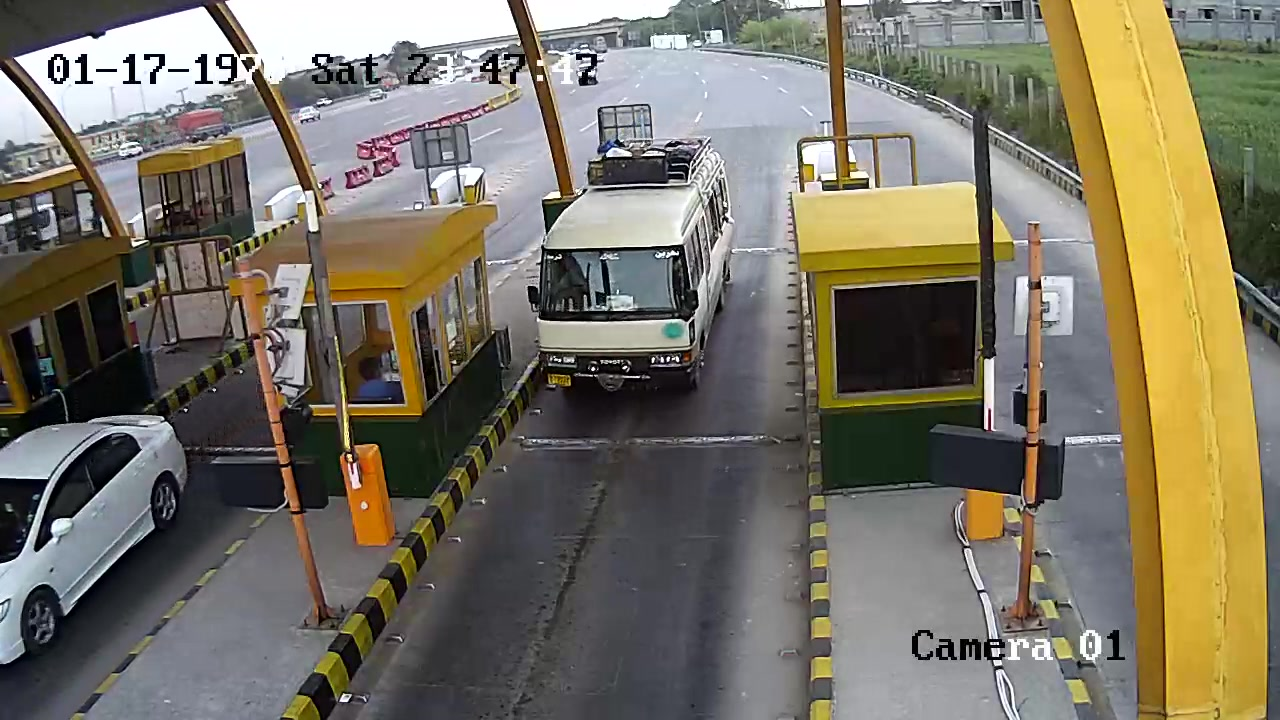F3: (535, 129, 739, 405)
